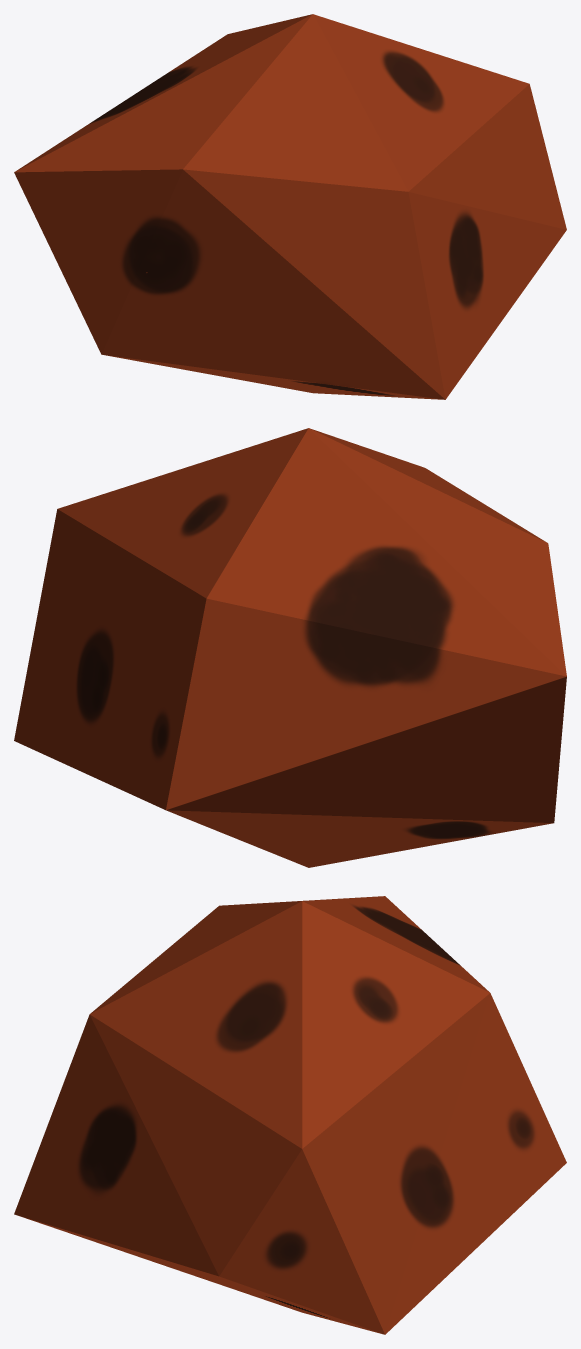
File: simulator_asteroid_v1.glb
3 views of the same model, one above another, from view 1: azimuth 30°, elevation 25°; view 2: azimuth 150°, elevation 25°; view 3: azimuth 270°, elevation 25° (orthographic). The views are drawn at different scales.
Parts seen in each view (by area): view 1: Asteroid_1; view 2: Asteroid_1; view 3: Asteroid_1.
Boxes of the visible parts, <box> form: Asteroid_1: <box>14,14,566,399</box>; Asteroid_1: <box>14,428,566,867</box>; Asteroid_1: <box>14,896,566,1334</box>.
Size of the model in its own units: 3.79 by 2.88 by 3.5.
1 material, 1 textured.
